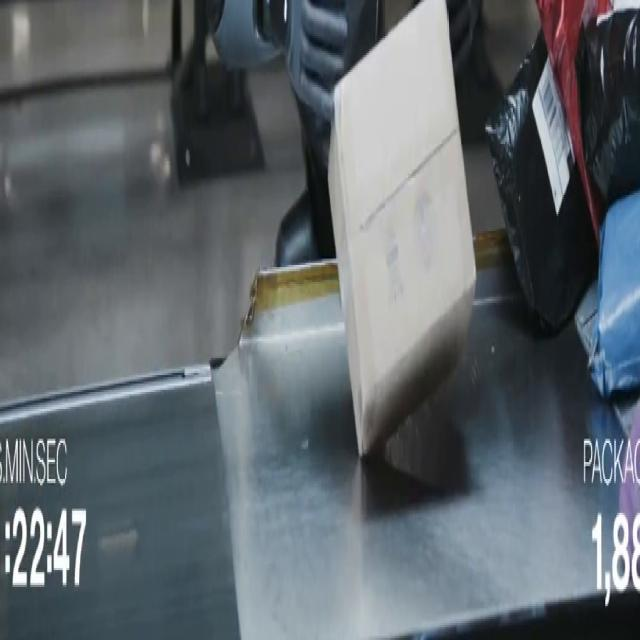package: (328, 0, 476, 455), (486, 32, 597, 330), (536, 0, 611, 241), (579, 9, 639, 207), (590, 193, 639, 400), (620, 412, 639, 574)
